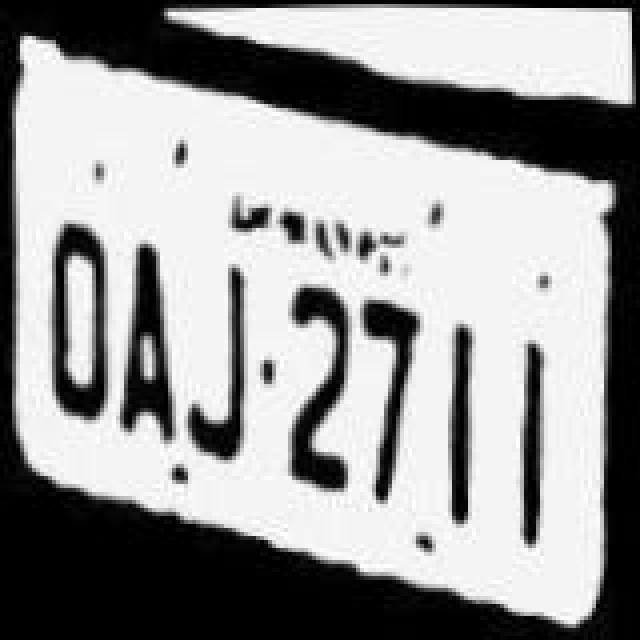1: (500, 298, 560, 562), (430, 278, 490, 526)
2: (278, 252, 362, 508)
7: (352, 276, 432, 512)
A: (108, 192, 184, 448)
J: (176, 252, 256, 464)
O: (36, 178, 120, 438)
